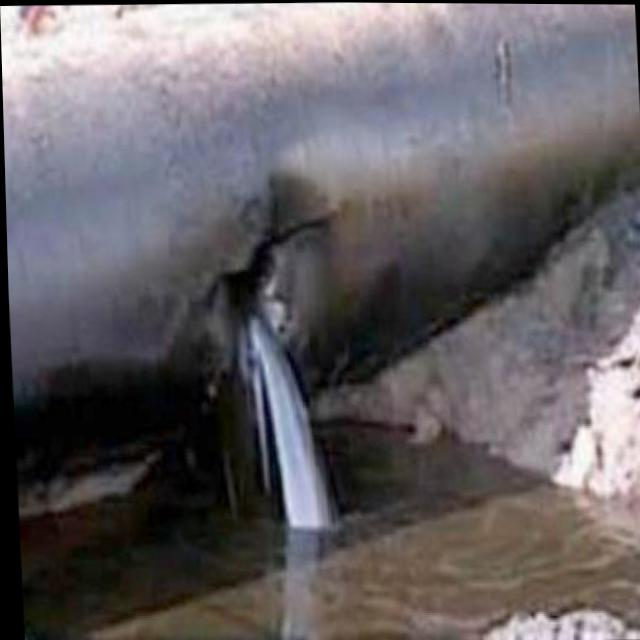leak: (247, 313, 331, 528)
